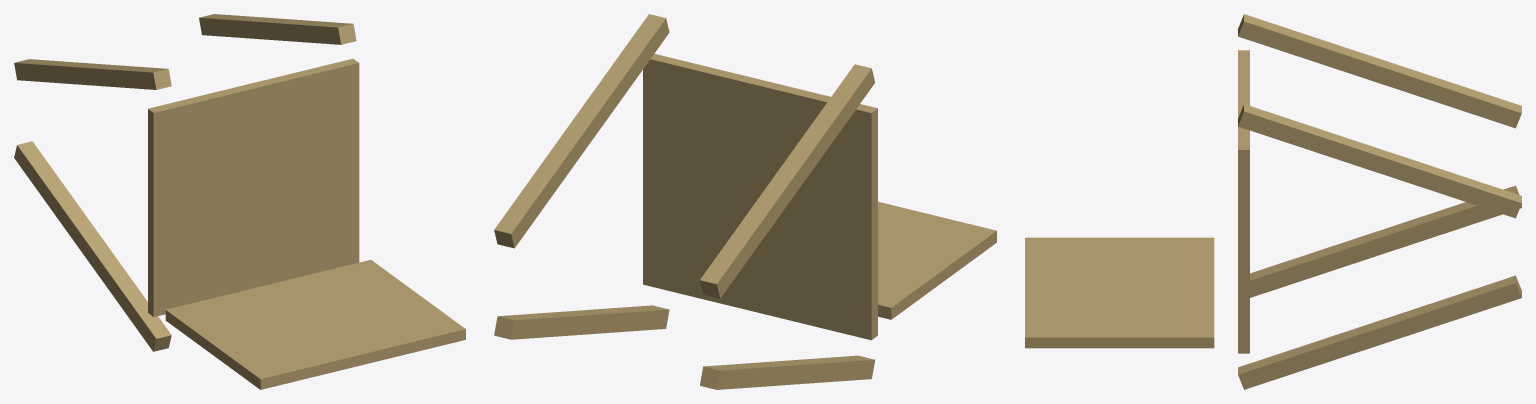
The model's file is chair.glb.
3 views of the same model, side by side, from view 1: azimuth 30°, elevation 25°; view 2: azimuth 150°, elevation 25°; view 3: azimuth 270°, elevation 25° (orthographic). The views are drawn at different scales.
Parts seen in each view (by area): view 1: world; view 2: world; view 3: world.
Boxes of the visible parts, <box> form: world: <box>14,14,465,389</box>; world: <box>494,14,996,389</box>; world: <box>1025,14,1521,389</box>.
Bounding box in the file's own units: 0.4 × 0.5196 × 0.84.
